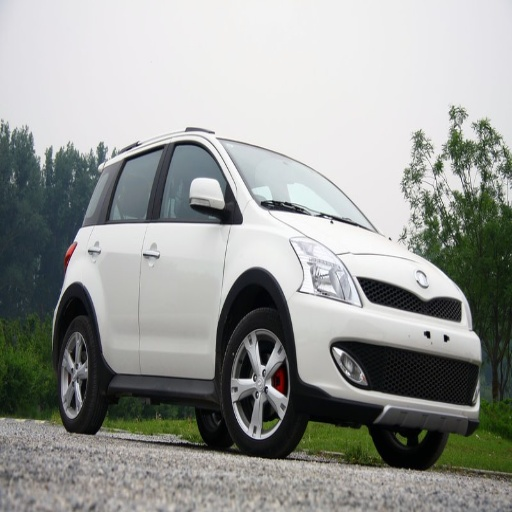front_bumper: (288, 294, 476, 429)
front_right_door: (140, 138, 234, 377)
front_right_light: (291, 238, 362, 303)
